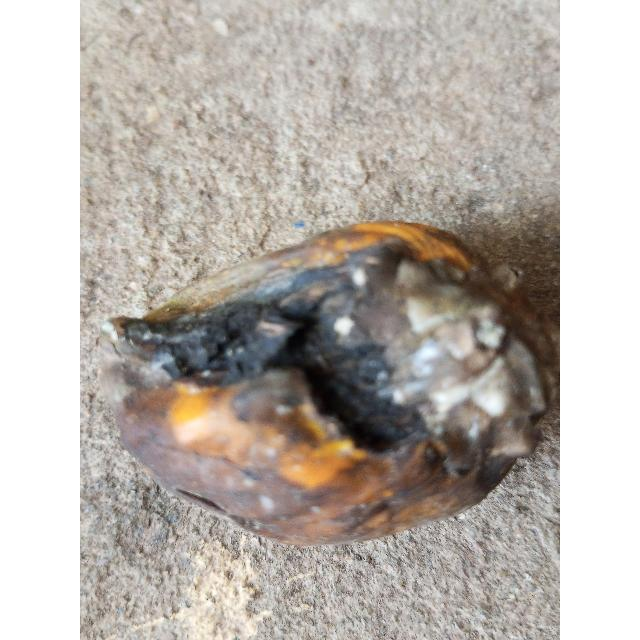damaged: (100, 222, 555, 550)
